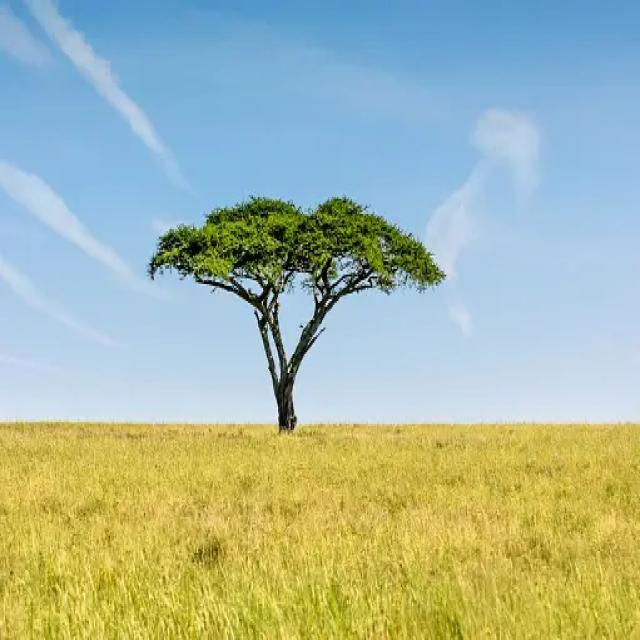Acacia: (133, 184, 450, 444)
